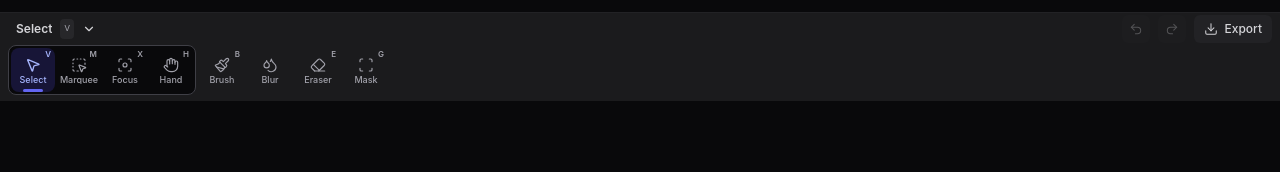
Scenario: BottomToolbar › reveals the brush group variants when the brush group is active
Expected: the button "Pencil" is not shown
Step 1. Click the button with aria-label "Paint" → (222, 70), box [200, 48, 244, 92]
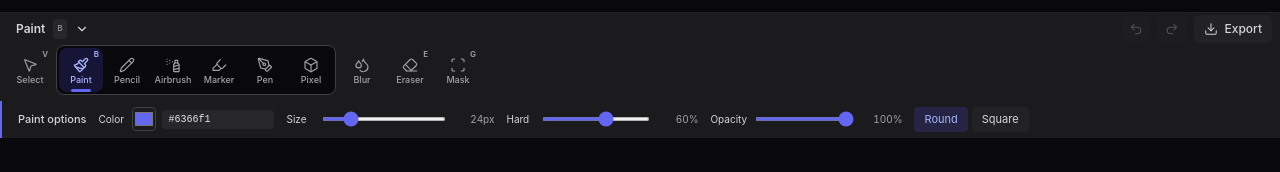
Expected: the element showing "Paint B Pencil Airbrush Marker Pen Pixel" is shown, [56, 45, 336, 95]
Expected: the 2nd button "Paint B" is enabled, [59, 48, 103, 92]
Expected: the button "Pencil" is enabled, [105, 48, 149, 92]
